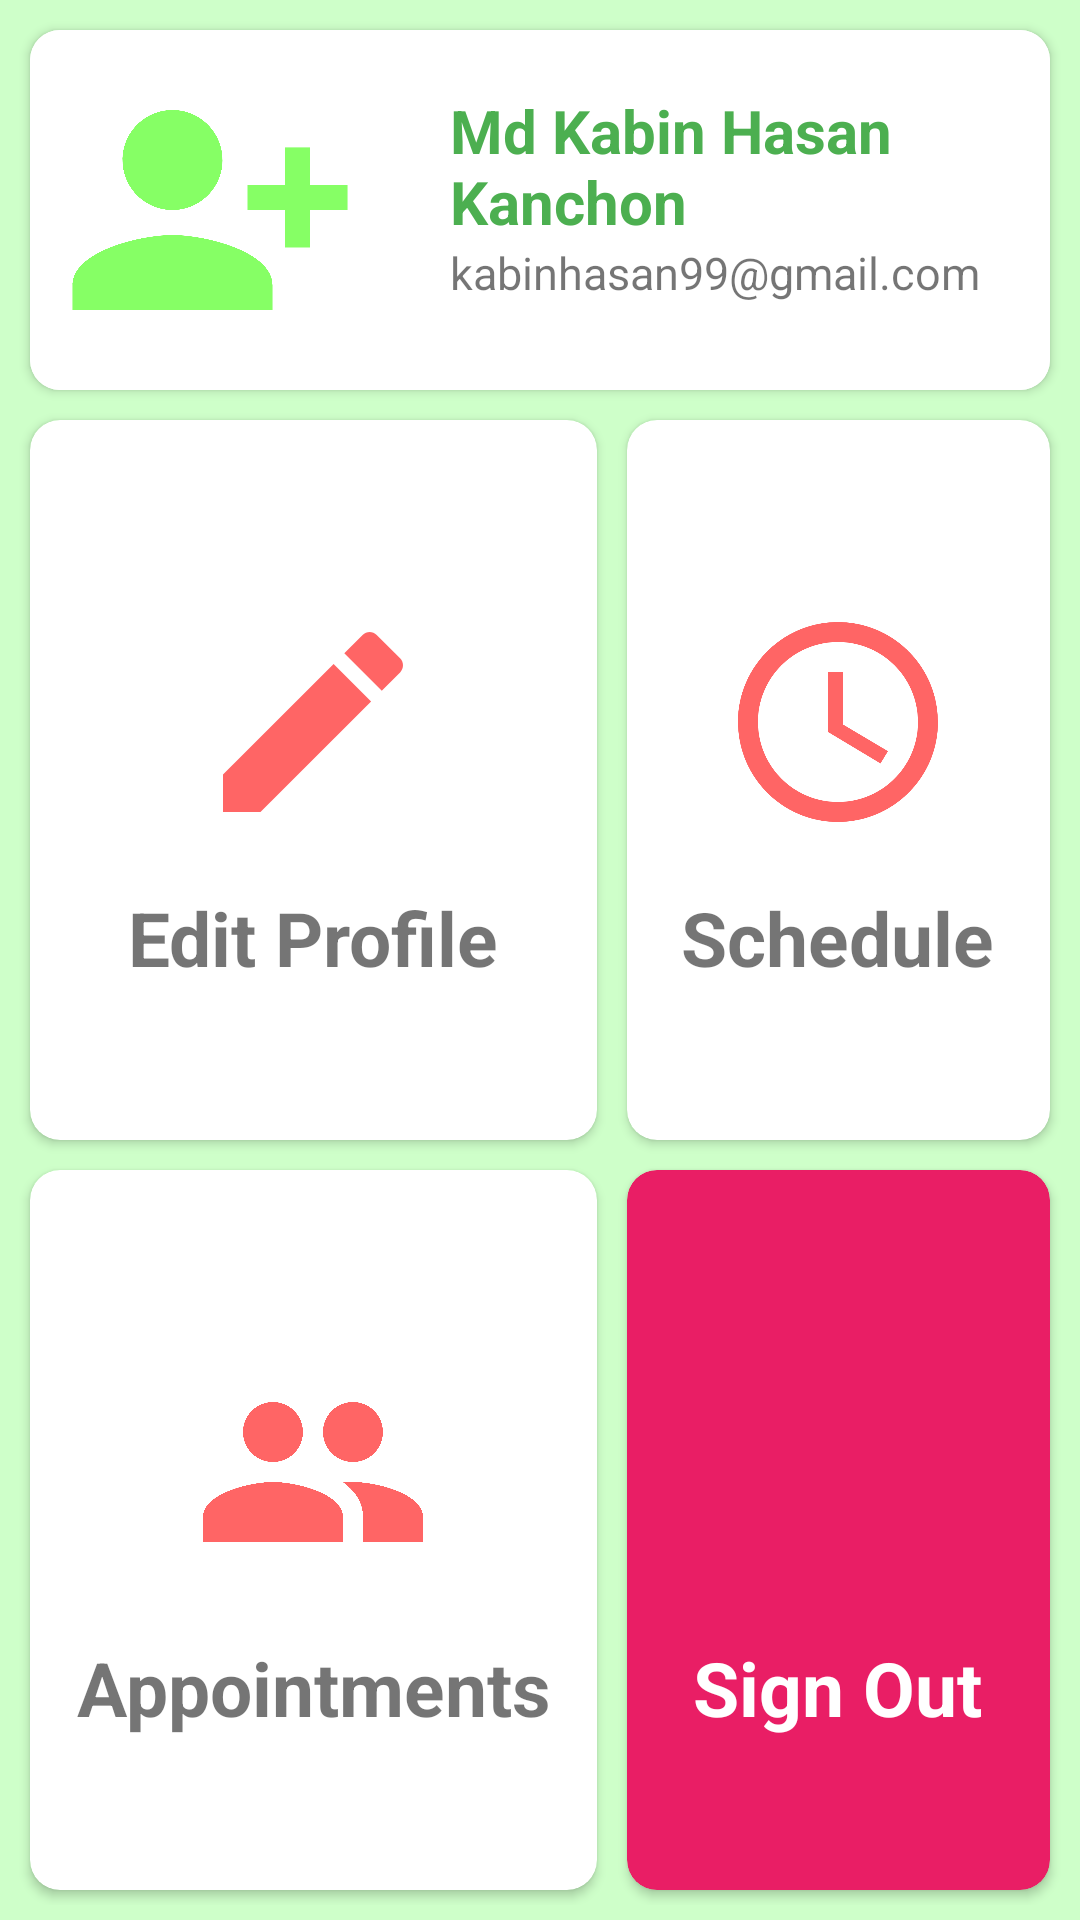

Locate icon controls on the screen. Image size 1080*1920, boxes as {"x1": x1, "y1": y1, "x2": x2, "y2": y2}.
people: {"x1": 203, "y1": 1402, "x2": 423, "y2": 1542}
person add: {"x1": 72, "y1": 110, "x2": 348, "y2": 310}
